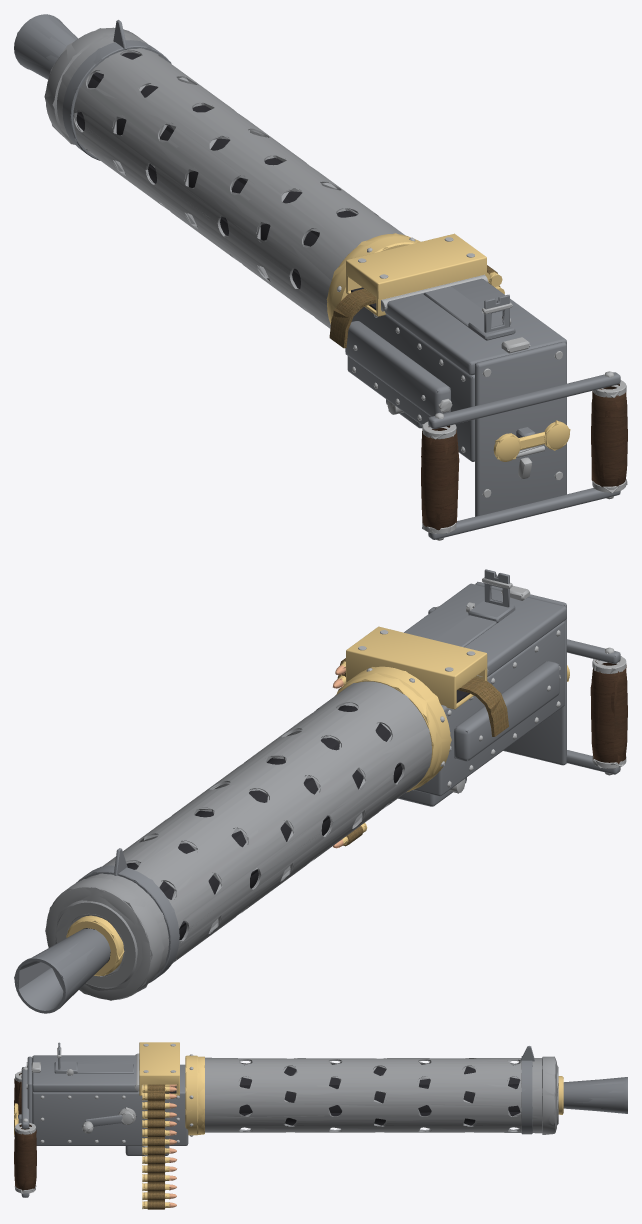
File: mitraie.glb
The picture shows the model from 3 angles, top to bottom: view 1: azimuth 30°, elevation 25°; view 2: azimuth 150°, elevation 25°; view 3: azimuth 270°, elevation 25°; orthographic projection. The views are drawn at different scales.
Visible parts, largest first — view 1: body, far; view 2: body, far; view 3: body, far.
Boxes of the visible parts, box(x1,y1,x2,y2) form: body: box(14, 14, 627, 540); far: box(14, 14, 627, 539); body: box(14, 569, 627, 1013); far: box(14, 569, 626, 1008); body: box(14, 1042, 627, 1209); far: box(14, 1046, 627, 1208).
Bounding box in the file's own units: 0.2146 × 0.2325 × 0.906.
8 materials, 2 textured.
